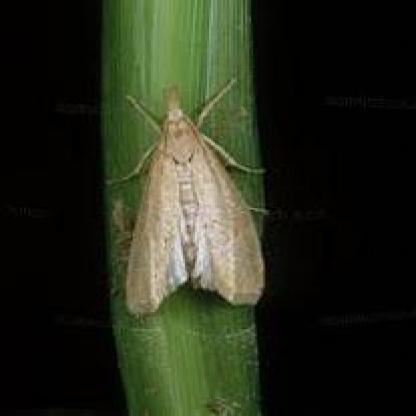stem-borer: (108, 77, 256, 307)
